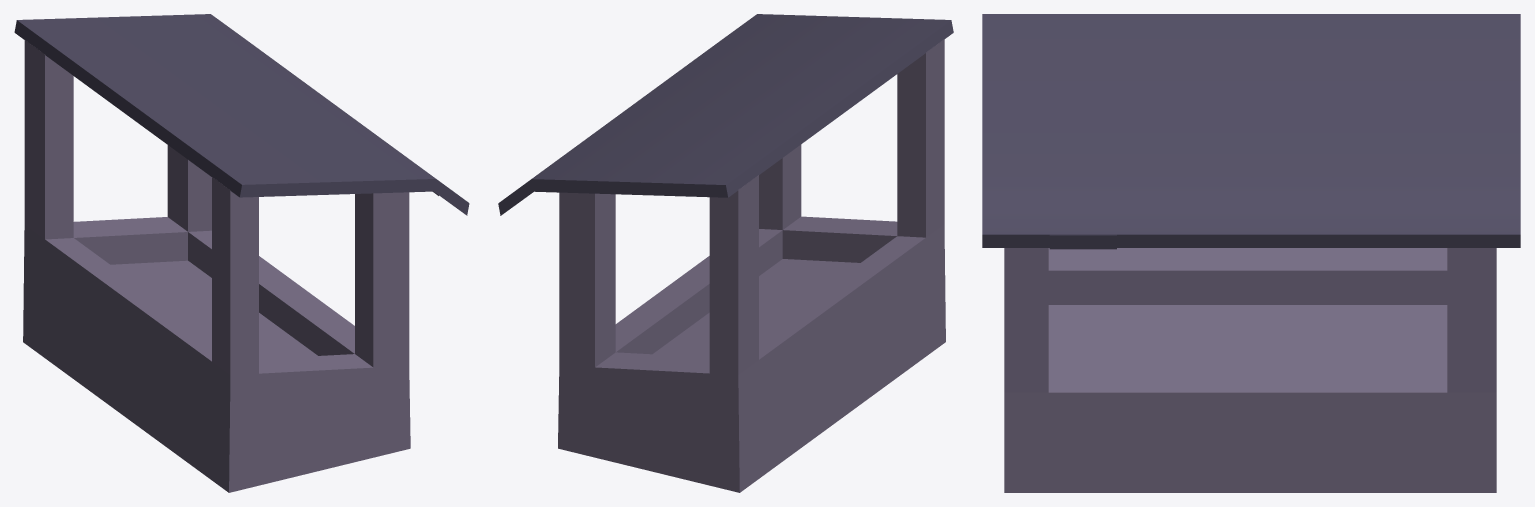
The model's file is Market_Stall_Ver1.fbx.
3 renders of one model, left to right at view 1: azimuth 30°, elevation 25°; view 2: azimuth 150°, elevation 25°; view 3: azimuth 270°, elevation 25°, orthographic. The views are drawn at different scales.
Visible parts, largest first — view 1: Market_Stall_Ver1; view 2: Market_Stall_Ver1; view 3: Market_Stall_Ver1.
Boxes of the visible parts, x1,y1,x2,y2 form: Market_Stall_Ver1: [14, 14, 469, 492]; Market_Stall_Ver1: [498, 14, 953, 492]; Market_Stall_Ver1: [982, 14, 1520, 492].
Size of the model in its own units: 1.92 by 2.5 by 3.25.
